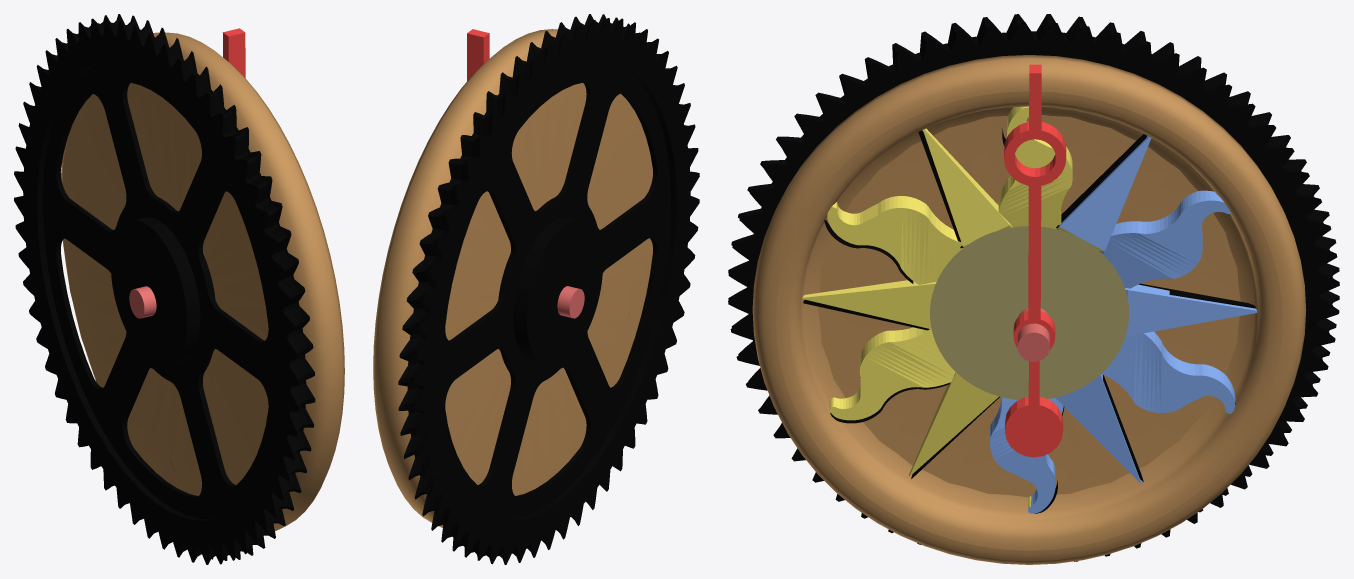
File: clock.fbx
The picture shows the model from 3 angles, left to right: view 1: azimuth 30°, elevation 25°; view 2: azimuth 150°, elevation 25°; view 3: azimuth 270°, elevation 25°; orthographic projection. The views are drawn at different scales.
Visible parts, largest first — view 1: Mesh1224, 柱体, Mesh725, Mesh1175.001; view 2: Mesh1224, 柱体, Mesh725, Mesh1175.001; view 3: 柱体, Group288.001, Mesh1224, Mesh1207, Mesh725, Group288, Mesh1175.001.
Boxes of the visible parts, x1,y1,x2,y2 form: Mesh1224: [14, 14, 315, 564]; 柱体: [61, 32, 344, 531]; Mesh725: [222, 28, 245, 77]; Mesh1175.001: [129, 286, 156, 318]; Mesh1224: [398, 14, 699, 564]; 柱体: [373, 29, 652, 527]; Mesh725: [467, 29, 489, 80]; Mesh1175.001: [557, 286, 584, 318]; 柱体: [752, 55, 1306, 564]; Group288.001: [802, 106, 1257, 513]; Mesh1224: [728, 14, 1339, 561]; Mesh1207: [930, 226, 1128, 399]; Mesh725: [1004, 64, 1066, 457]; Group288: [803, 128, 1255, 513]; Mesh1175.001: [1017, 308, 1049, 361].
Size of the model in its own units: 189 by 739 by 756.
